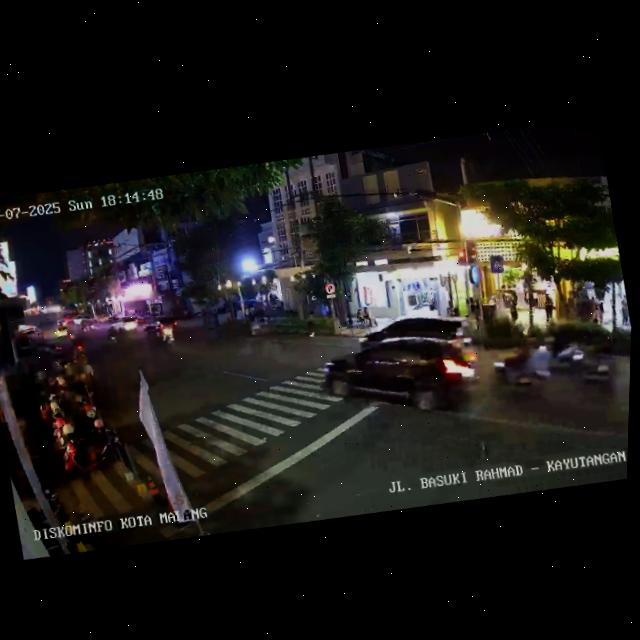car: (317, 315, 486, 438), (354, 305, 473, 357), (10, 320, 45, 352), (142, 314, 181, 342), (108, 311, 145, 339)
motorcycle: (481, 331, 560, 408), (158, 322, 177, 348)
person: (74, 355, 99, 399), (504, 289, 522, 322), (540, 291, 557, 323), (591, 299, 607, 328), (618, 295, 632, 327)
